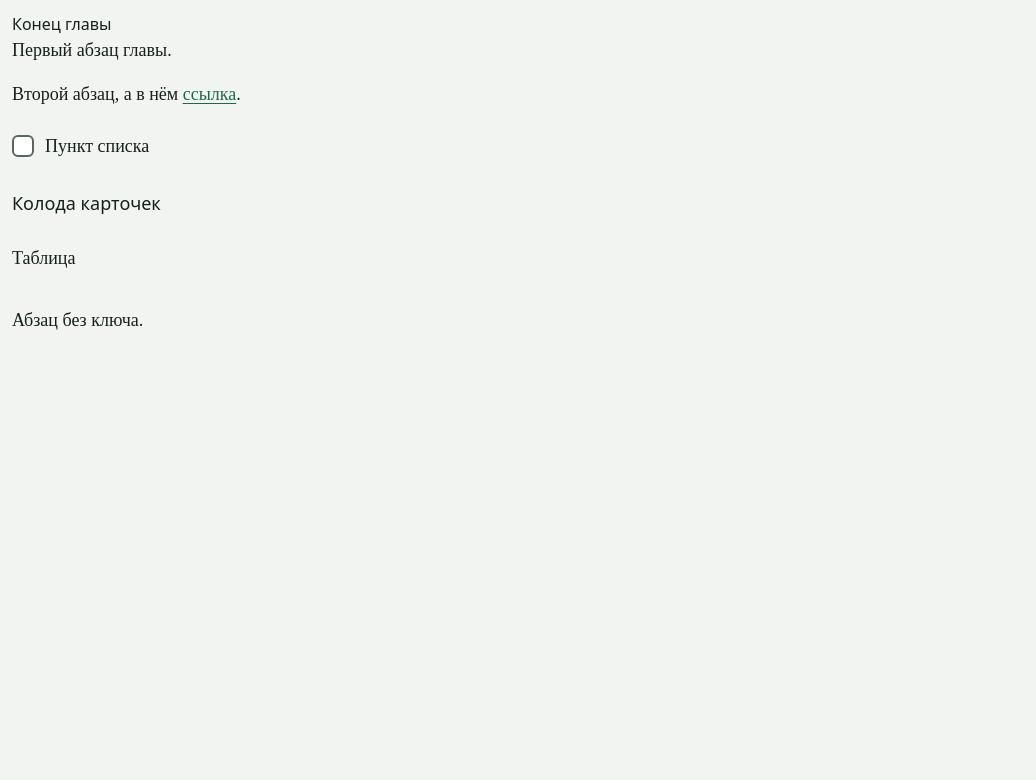
Test: BlockActions: отметка › «Отметить» красит абзац, пишет в базу и работает как переключатель
Later steps or results of the test are not shown.
Click the text "Первый абзац главы.": (92, 50) [12,40,172,60]
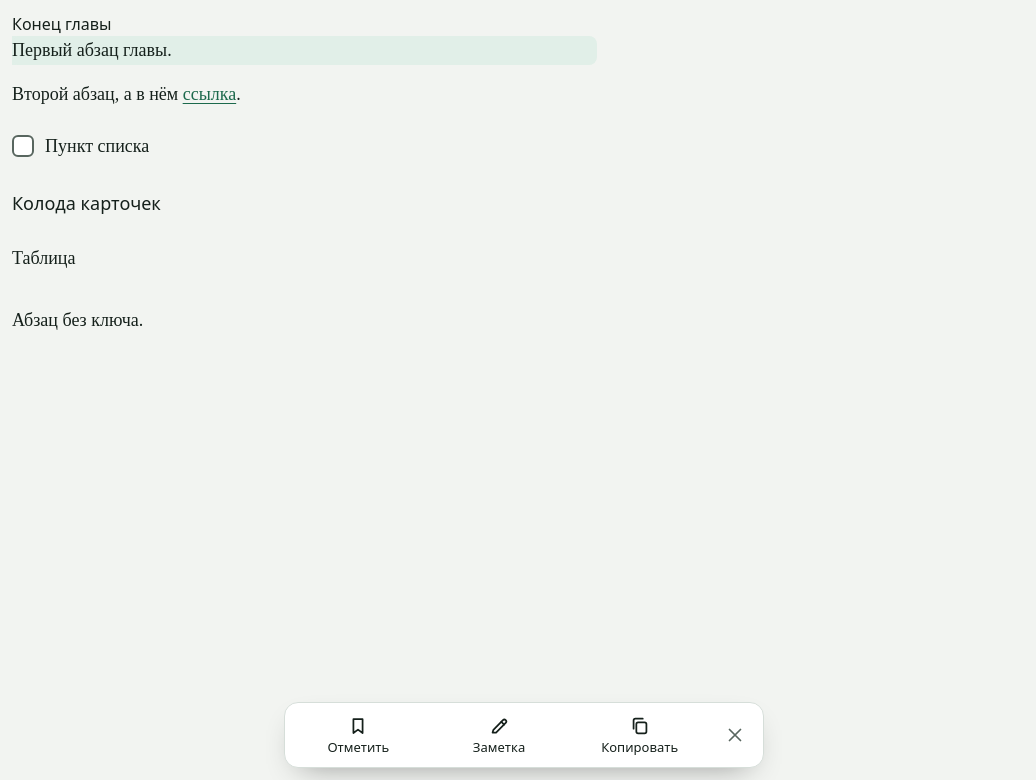
Click the button "Отметить": (358, 735) [289,707,428,763]
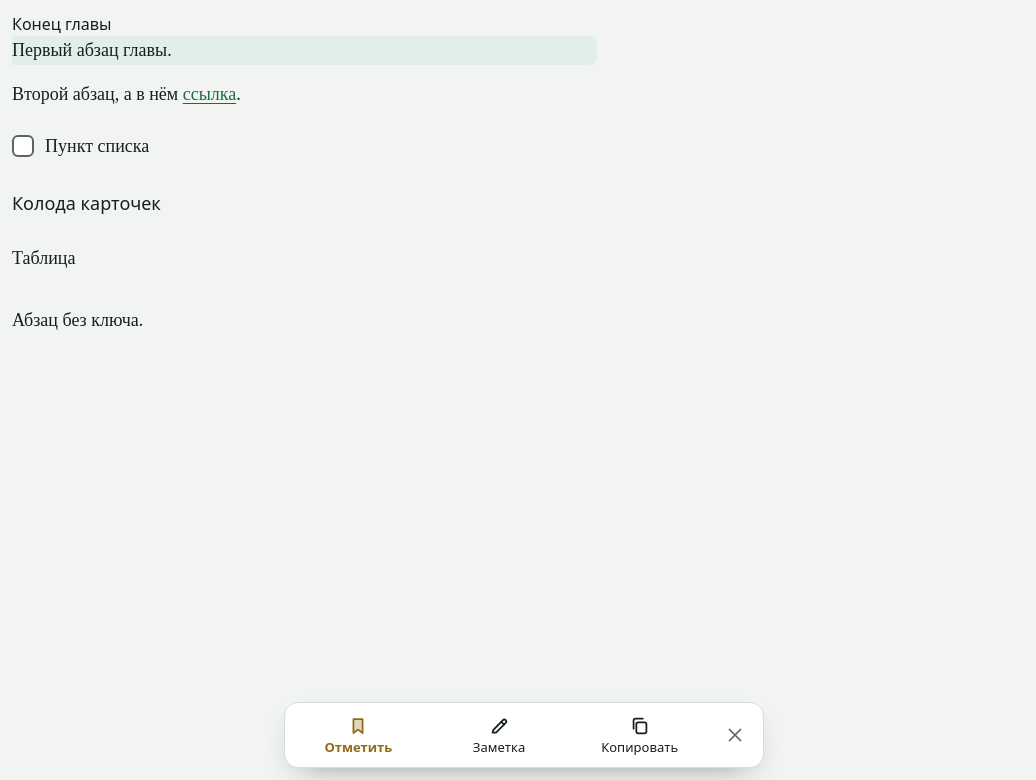
Check: the button "Отметить" is pressed, box [289,707,428,763]
